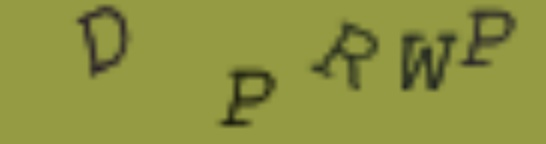D: (71, 1, 138, 79)
P: (217, 64, 281, 129), (458, 9, 517, 72)
R: (309, 16, 381, 93)
W: (395, 31, 460, 95)
